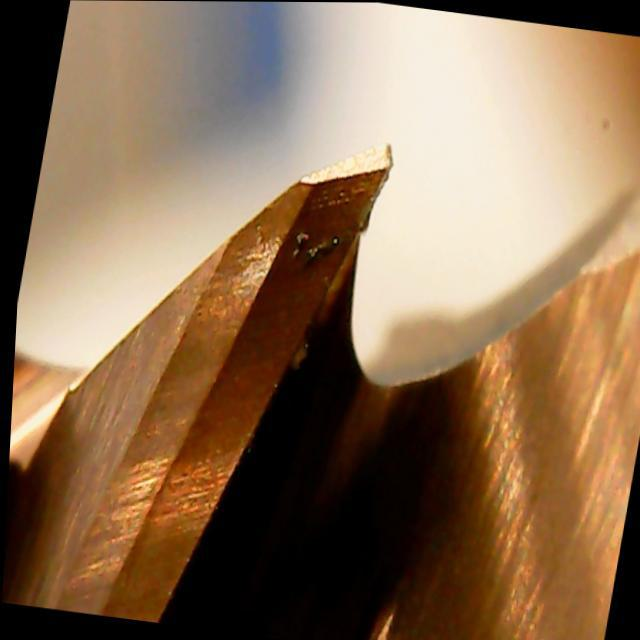Tool-wear-class-1: (195, 107, 395, 377)
